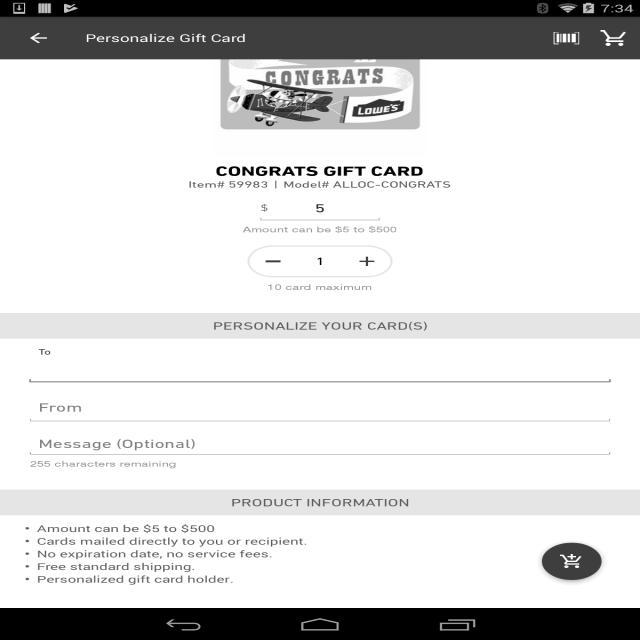EditText: (26, 354, 614, 384), (26, 394, 614, 424), (26, 433, 614, 458), (256, 196, 384, 223), (299, 252, 341, 272)
ImageButton: (529, 531, 614, 592), (9, 17, 68, 59)
ImageView: (213, 23, 427, 157), (248, 245, 298, 278), (342, 245, 392, 278), (601, 22, 626, 54)
TextView: (0, 313, 640, 339), (0, 490, 640, 515), (26, 522, 614, 535), (26, 547, 614, 560), (26, 560, 614, 573), (26, 535, 614, 547), (26, 573, 614, 585), (215, 163, 424, 179), (0, 457, 202, 470), (86, 31, 247, 45), (283, 179, 452, 190), (242, 223, 396, 235), (541, 22, 592, 54), (268, 281, 372, 293), (188, 179, 268, 190), (595, 22, 635, 35), (256, 202, 268, 217), (273, 179, 278, 190)
